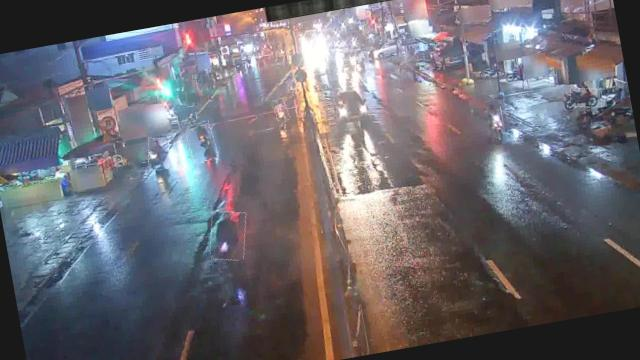Bike: (205, 207, 251, 263), (185, 120, 218, 164), (486, 98, 507, 142), (146, 136, 172, 171), (568, 84, 604, 109), (272, 97, 290, 122), (183, 105, 198, 124)
Car: (334, 83, 373, 125)
